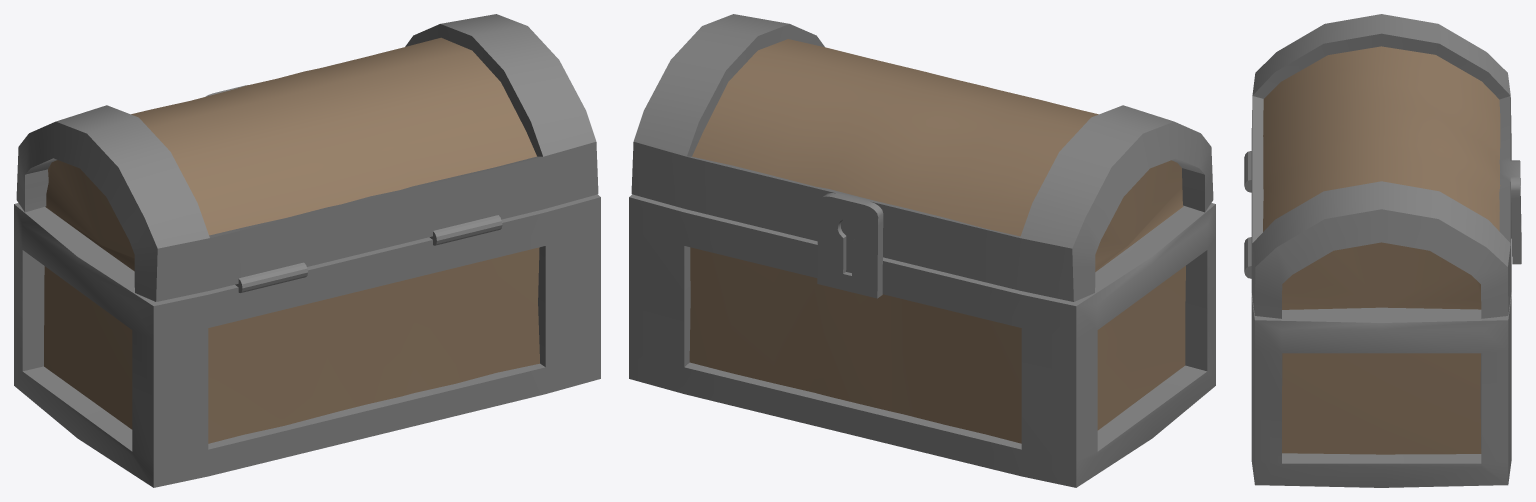
Rendered from Chest model test 1.fbx.
3 renders of one model, left to right at view 1: azimuth 30°, elevation 25°; view 2: azimuth 150°, elevation 25°; view 3: azimuth 270°, elevation 25°, orthographic. The views are drawn at different scales.
Visible parts, largest first — view 1: Chest, Chest.001; view 2: Chest, Chest.001; view 3: Chest.001, Chest.
Boxes of the visible parts, x1,y1,x2,y2 form: Chest: (14,194,600,487); Chest.001: (16,14,598,301); Chest: (629,194,1215,487); Chest.001: (631,14,1213,301); Chest.001: (1251,14,1521,318); Chest: (1244,151,1511,487).
Bounding box in the file's own units: 272 × 473 × 302.
